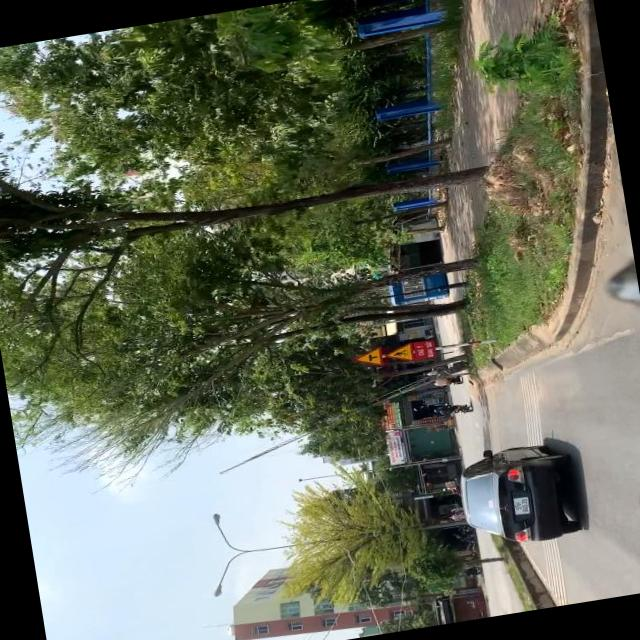W-205d: (351, 346, 386, 372)
W-224: (384, 342, 415, 366)
